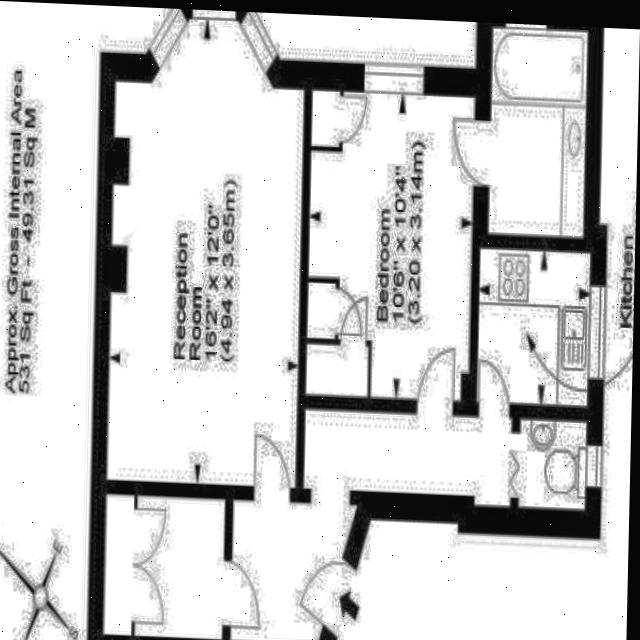room: (107, 16, 305, 487), (231, 408, 512, 640), (307, 91, 475, 400), (490, 28, 587, 236), (477, 248, 590, 405), (136, 496, 224, 635), (520, 419, 586, 508), (104, 494, 134, 634)
